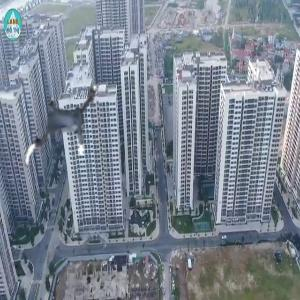drone: (15, 85, 111, 181)
